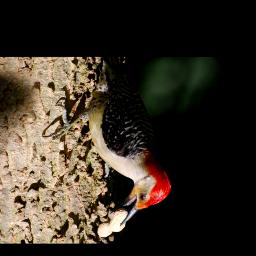Woodpecker: (38, 59, 172, 225)
